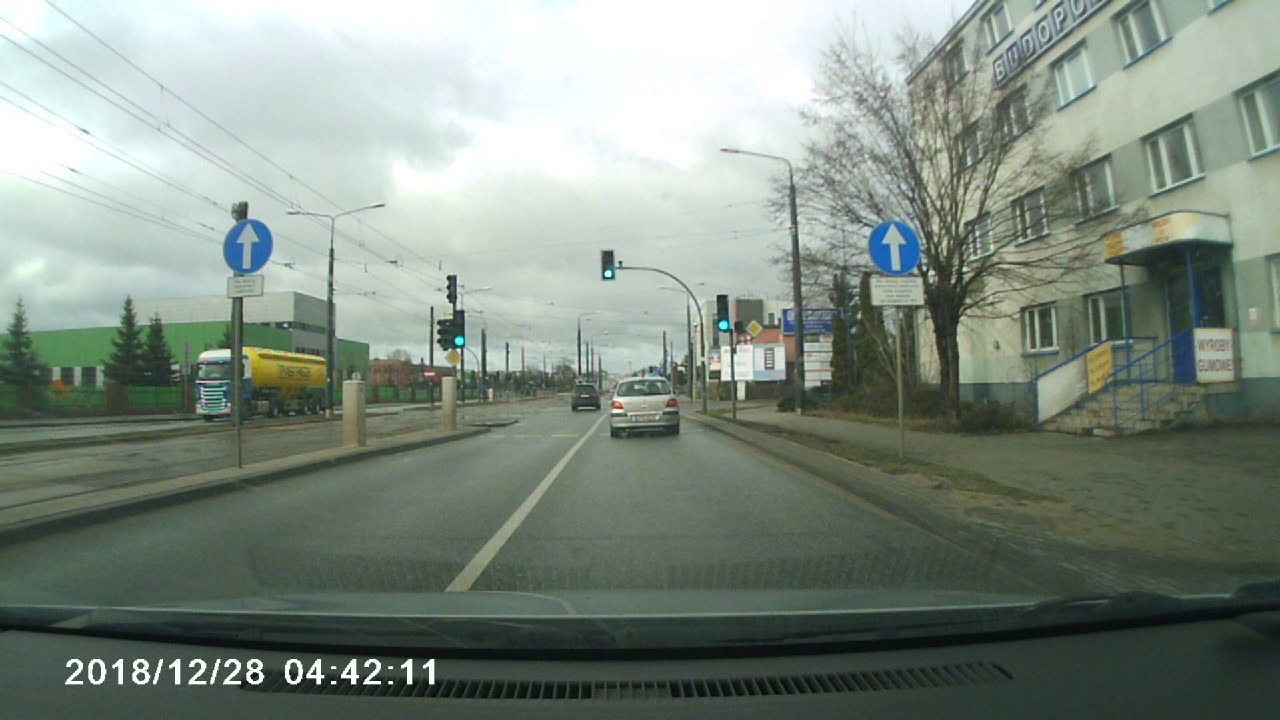C5: (865, 219, 924, 275), (219, 219, 274, 274)
D1: (744, 319, 765, 337), (445, 349, 465, 367)
